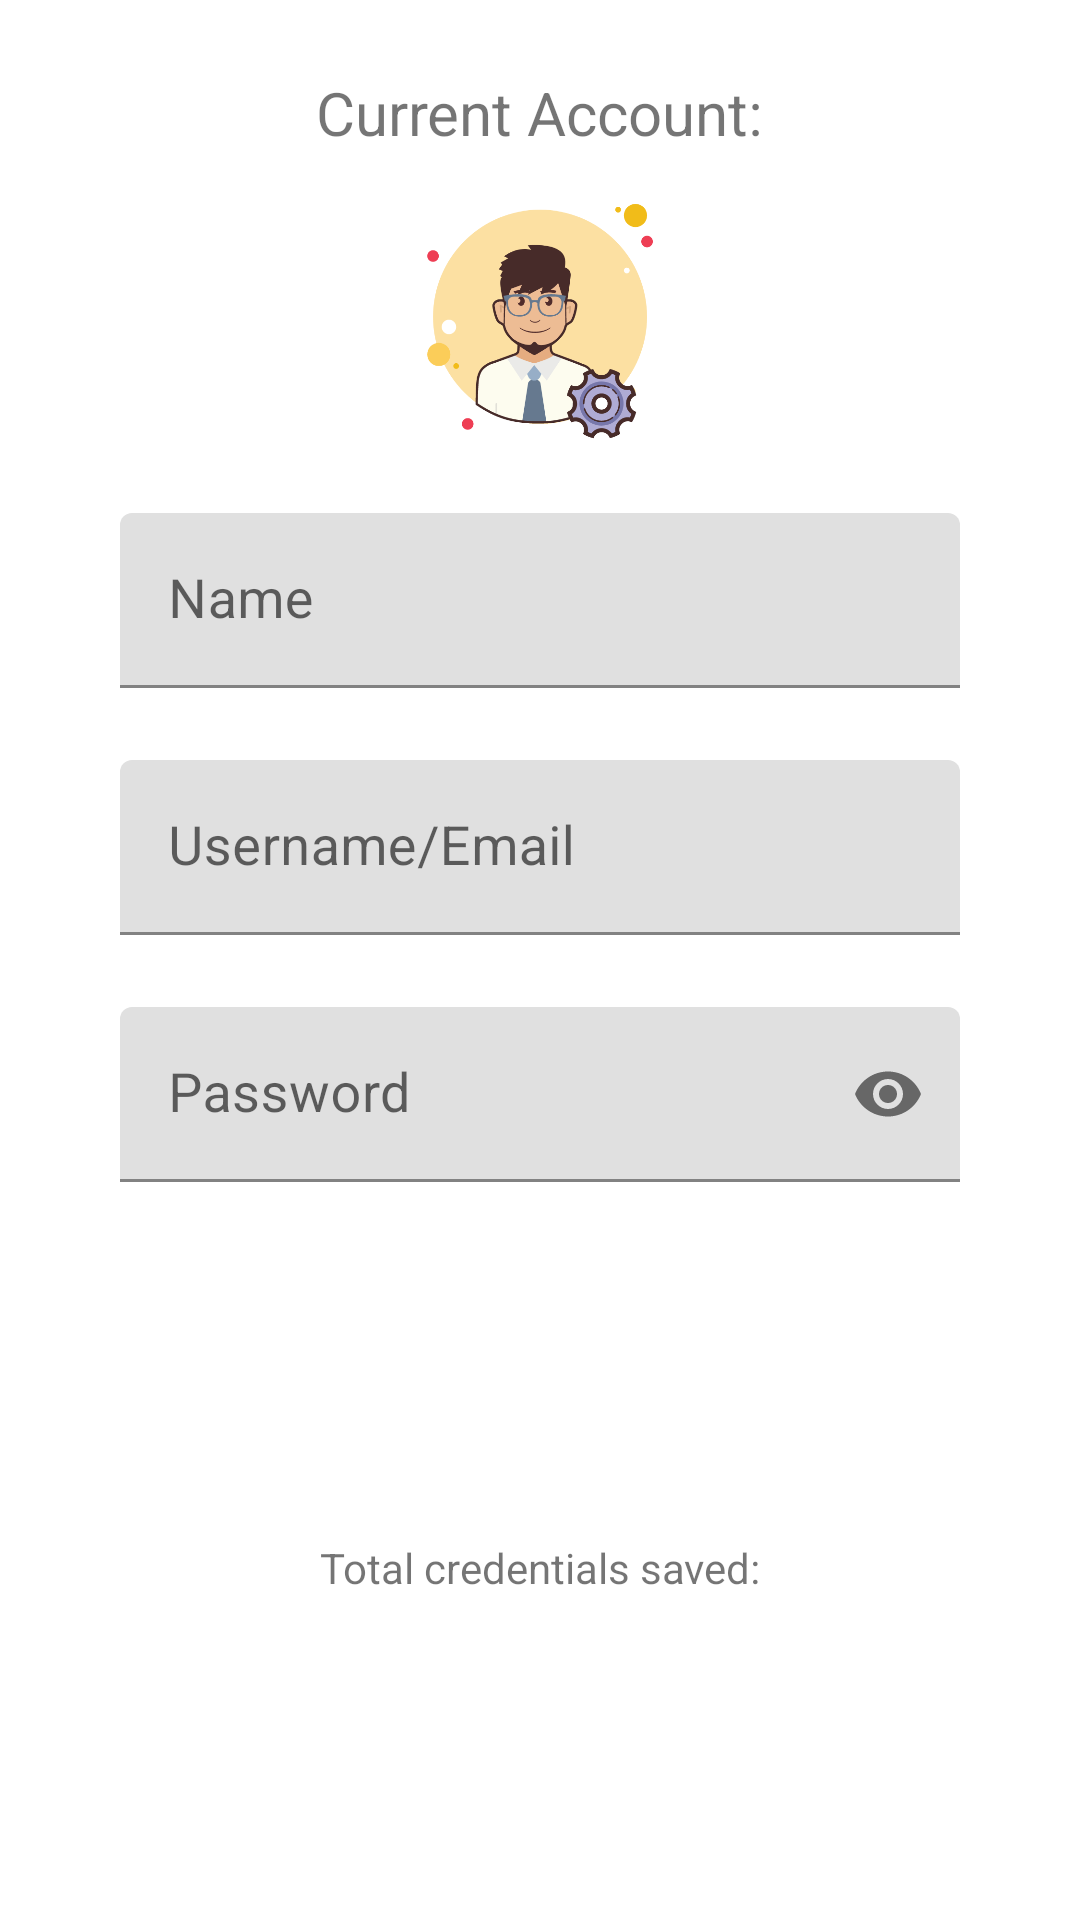

Point at icon controls on the screen. Image size 1080px×1920px, points as [x,y].
graphic settings: [540,321]
